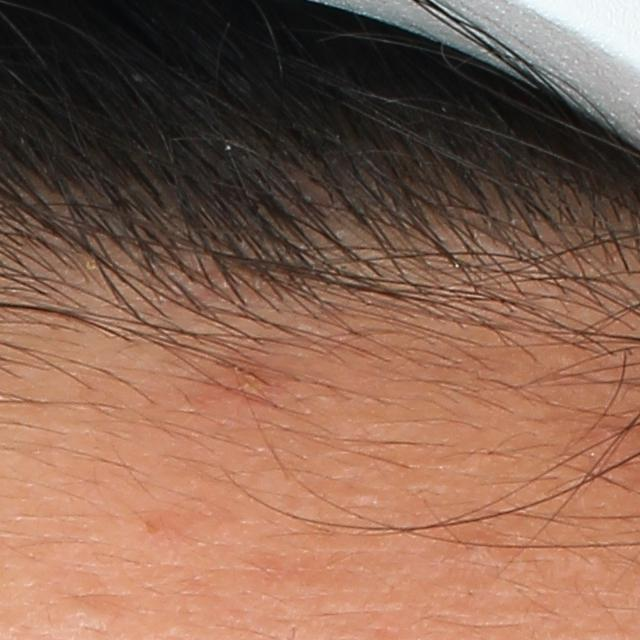comedo: (54, 601, 111, 634)
